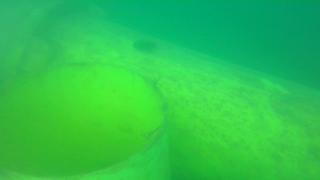pipe: (1, 1, 318, 179), (1, 61, 171, 180)
